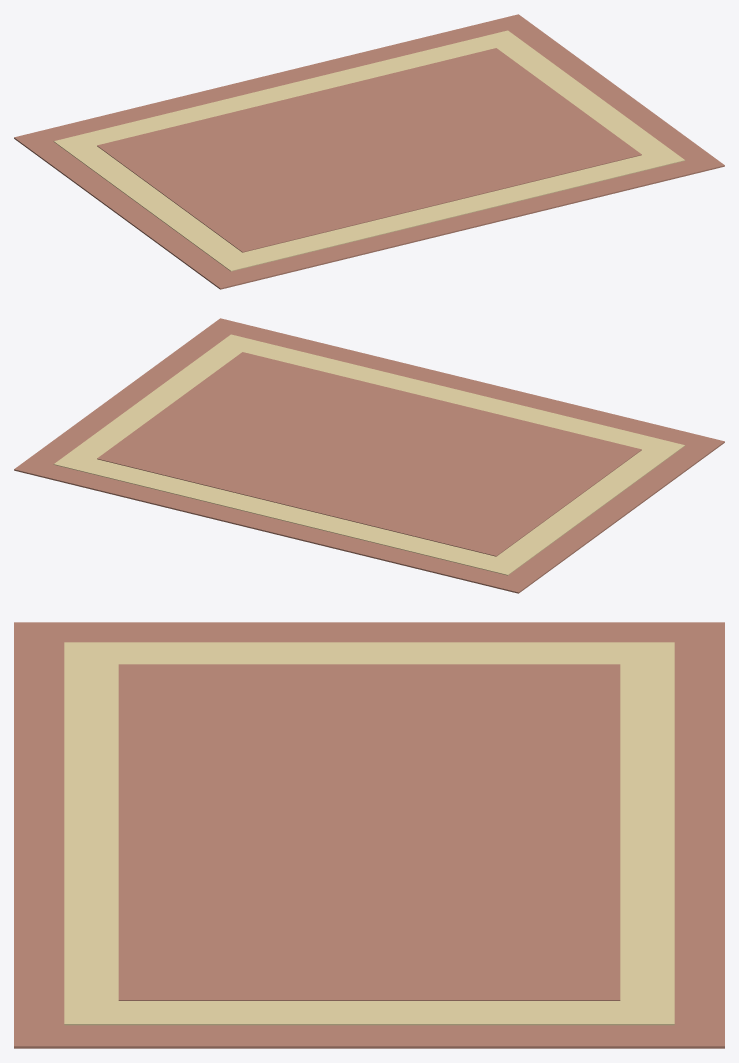
Rendered from rug.glb.
The picture shows the model from 3 angles, top to bottom: view 1: azimuth 30°, elevation 25°; view 2: azimuth 150°, elevation 25°; view 3: azimuth 270°, elevation 25°; orthographic projection. The views are drawn at different scales.
Parts seen in each view (by area): view 1: rug_rug, rug_hay; view 2: rug_rug, rug_hay; view 3: rug_rug, rug_hay.
Part boxes in pixels (<box>): rug_rug: <box>14,14,724,289</box>; rug_hay: <box>53,30,685,271</box>; rug_rug: <box>14,318,724,593</box>; rug_hay: <box>53,334,685,575</box>; rug_rug: <box>14,622,724,1048</box>; rug_hay: <box>64,642,674,1025</box>.
Size of the model in its own units: 2.4 by 0.012 by 1.7.
